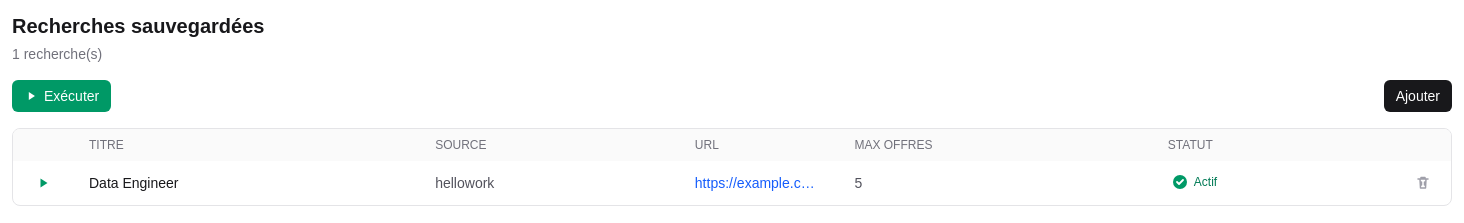
Scenario: SearchSettingsBrowser › désactive un paramètre via le toggle (ignoré par l'agent)
The image size is (1464, 223).
Expected: the text "Data Engineer" is shown, [73,161,419,205]
Click the button with aria-label "Désactiver Data Engineer": coordinates (1194, 182) [1168,172,1221,192]
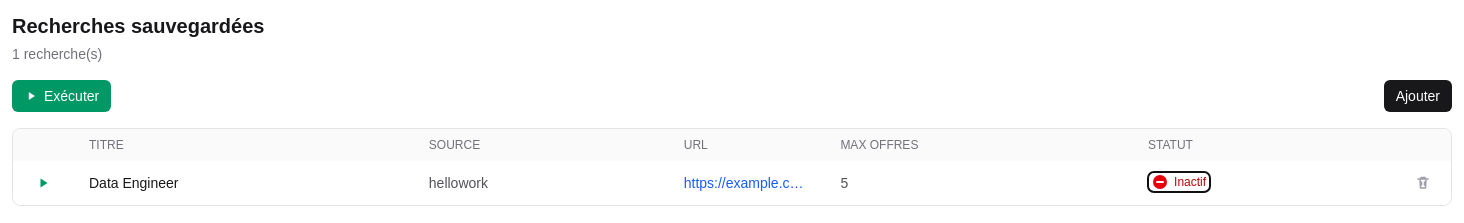
Result: the button "Inactif" is shown at [1148,172,1210,192]
